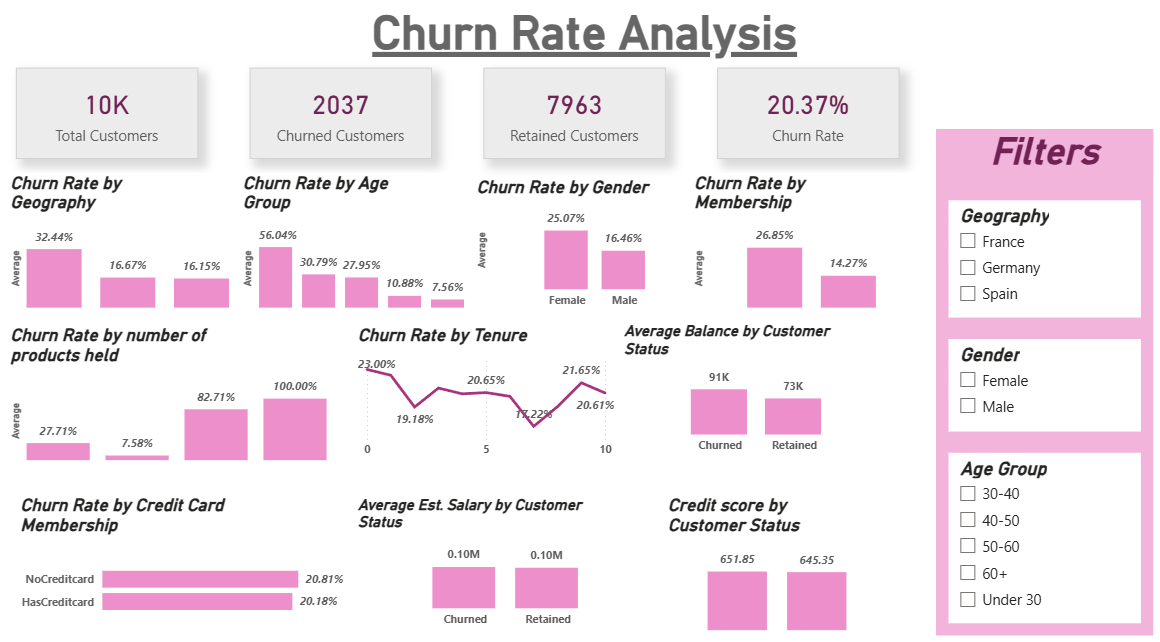

The dashboard page shown, as its layout file describes it:
{"tool":"powerbi","page":{"name":"Page 1","canvas":[1280,720],"ordinal":0},"visuals":[{"type":"card","fields":{"Values":["churn.Total Customers"]},"box":[21.4,81.4,200,100],"z":0},{"type":"card","fields":{"Values":["churn.Churned Customers"]},"box":[278,81.4,200,100],"z":1000},{"type":"card","fields":{"Values":["churn.Retained Customers"]},"box":[535,81.4,200,100],"z":2000},{"type":"card","fields":{"Values":["churn.Churn Rate"]},"box":[792,81.4,200,100],"z":3000},{"type":"clusteredColumnChart","title":"Churn Rate by Geography","fields":{"Category":["churn.Geography"],"Y":["churn.Churn Rate"]},"box":[11.4,195.7,254.3,154.3],"z":4000},{"type":"clusteredColumnChart","title":"Churn Rate by Gender","fields":{"Y":["churn.Churn Rate"],"Category":["churn.Gender"]},"box":[522.9,200,254,154],"z":5000},{"type":"clusteredColumnChart","title":"Churn Rate by Age Group","fields":{"Y":["churn.Churn Rate"],"Category":["churn.Age Group"]},"box":[265.7,195.7,254.3,154.3],"z":6000},{"type":"clusteredColumnChart","title":"Churn Rate by Membership","fields":{"Category":["churn.Membership Status"],"Y":["churn.Churn Rate"]},"box":[761.4,195.7,254.3,154.3],"z":7000},{"type":"clusteredColumnChart","title":"Churn Rate by number of products held","fields":{"Y":["churn.Churn Rate"],"Category":["churn.NumOfProducts"]},"box":[11.4,364.3,357.1,154.3],"z":8000},{"type":"lineChart","fields":{"Category":["churn.Tenure"],"Y":["churn.Churn Rate"]},"box":[392.9,364.3,291.4,154.3],"z":9000},{"type":"barChart","title":"Churn Rate by Credit Card Membership","fields":{"Category":["churn.Creditcarduser"],"Y":["churn.Churn Rate"]},"box":[21.4,550,371.4,154.3],"z":9001},{"type":"clusteredColumnChart","fields":{"Y":["churn.Average Balance"],"Category":["churn.Customer Status"]},"box":[684.3,360,302.9,154.3],"z":9002},{"type":"clusteredColumnChart","fields":{"Category":["churn.Customer Status"],"Y":["churn.Average Est. Salary"]},"box":[392.9,550,337.1,154.3],"z":9003},{"type":"clusteredColumnChart","title":"Credit score by Customer Status","fields":{"Y":["Avg(churn.CreditScore)"],"Category":["churn.Customer Status"]},"box":[732.9,550,254.3,154.3],"z":9005},{"type":"textbox","title":"Filters","box":[1031.4,148.6,238.6,555.7],"z":9006},{"type":"slicer","fields":{"Values":["churn.Geography"]},"box":[1045.7,226,211.4,128.6],"z":9008},{"type":"slicer","fields":{"Values":["churn.Gender"]},"box":[1045.7,379,211.4,101.4],"z":9009},{"type":"slicer","fields":{"Values":["churn.Age Group"]},"box":[1045.7,504.3,211.4,187.1],"z":9010},{"type":"textbox","title":"Churn Rate Analysis","box":[21.4,12.9,1248.6,68.6],"z":9011}]}

Visuals, with their boxes in screenshot pixels (x1, y1, x2, y2), scaled from the page's 1280x720 canvas onto the 1160x642 screenshot:
card - churn.Total Customers: <region>19, 73, 201, 162</region>
card - churn.Churned Customers: <region>252, 73, 433, 162</region>
card - churn.Retained Customers: <region>485, 73, 666, 162</region>
card - churn.Churn Rate: <region>718, 73, 899, 162</region>
"Churn Rate by Geography" clusteredColumnChart: <region>10, 174, 241, 312</region>
"Churn Rate by Gender" clusteredColumnChart: <region>474, 178, 704, 316</region>
"Churn Rate by Age Group" clusteredColumnChart: <region>241, 174, 471, 312</region>
"Churn Rate by Membership" clusteredColumnChart: <region>690, 174, 920, 312</region>
"Churn Rate by number of products held" clusteredColumnChart: <region>10, 325, 334, 462</region>
lineChart - churn.Tenure x churn.Churn Rate: <region>356, 325, 620, 462</region>
"Churn Rate by Credit Card Membership" barChart: <region>19, 490, 356, 628</region>
clusteredColumnChart - churn.Average Balance x churn.Customer Status: <region>620, 321, 895, 459</region>
clusteredColumnChart - churn.Customer Status x churn.Average Est. Salary: <region>356, 490, 662, 628</region>
"Credit score by Customer Status" clusteredColumnChart: <region>664, 490, 895, 628</region>
"Filters" textbox: <region>935, 133, 1151, 628</region>
slicer - churn.Geography: <region>948, 202, 1139, 316</region>
slicer - churn.Gender: <region>948, 338, 1139, 428</region>
slicer - churn.Age Group: <region>948, 450, 1139, 616</region>
"Churn Rate Analysis" textbox: <region>19, 12, 1151, 73</region>
